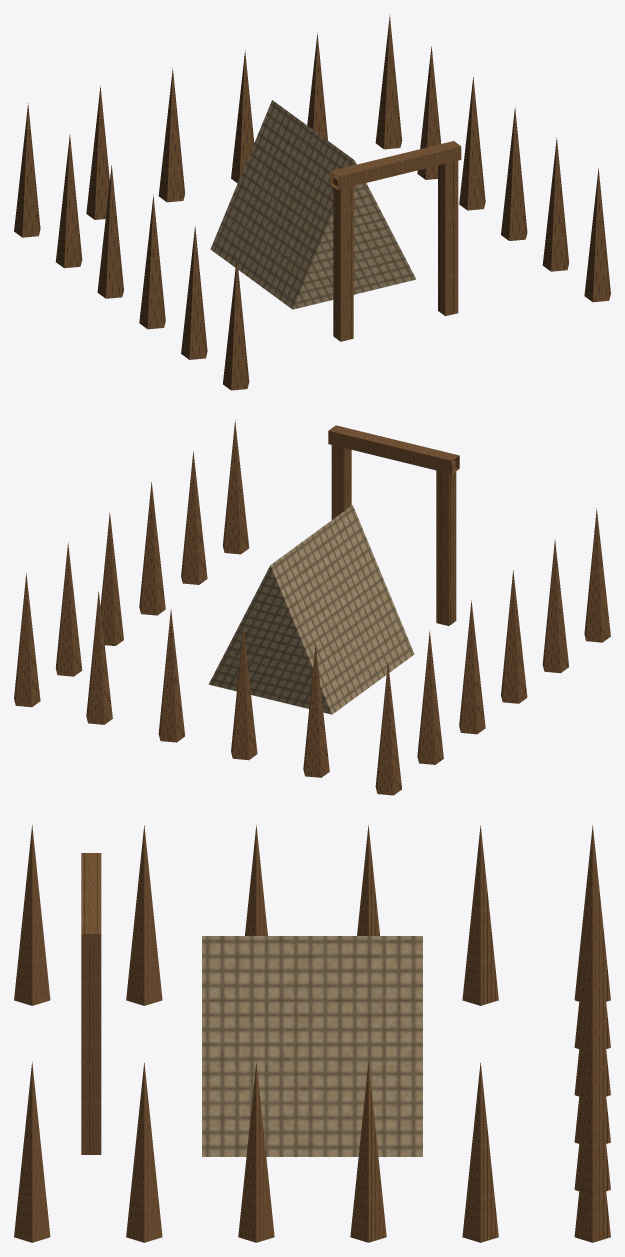
Rendered from military-CAMP-1-lod1.glb.
3 views of the same model, one above another, from view 1: azimuth 30°, elevation 25°; view 2: azimuth 150°, elevation 25°; view 3: azimuth 270°, elevation 25° (orthographic). The views are drawn at different scales.
Bounding box in the file's own units: 0.807 × 0.3335 × 0.8095.
1 material, 1 textured.
